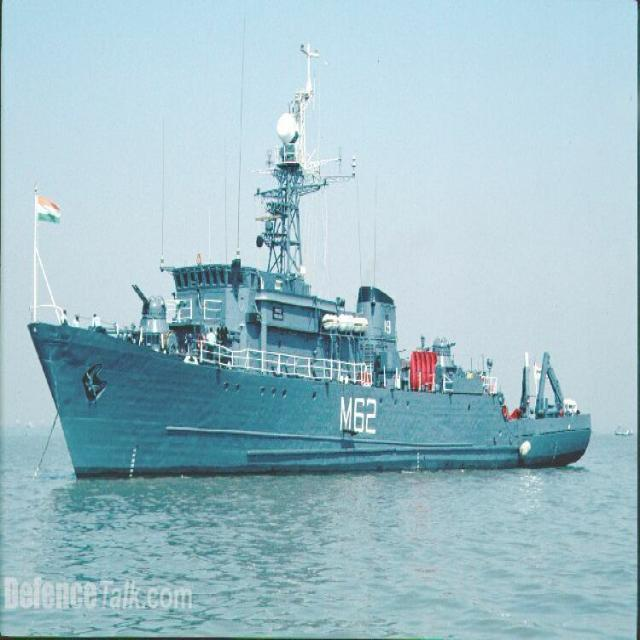Minesweeper-Pondicherry-Class-IND: (24, 29, 600, 476)
